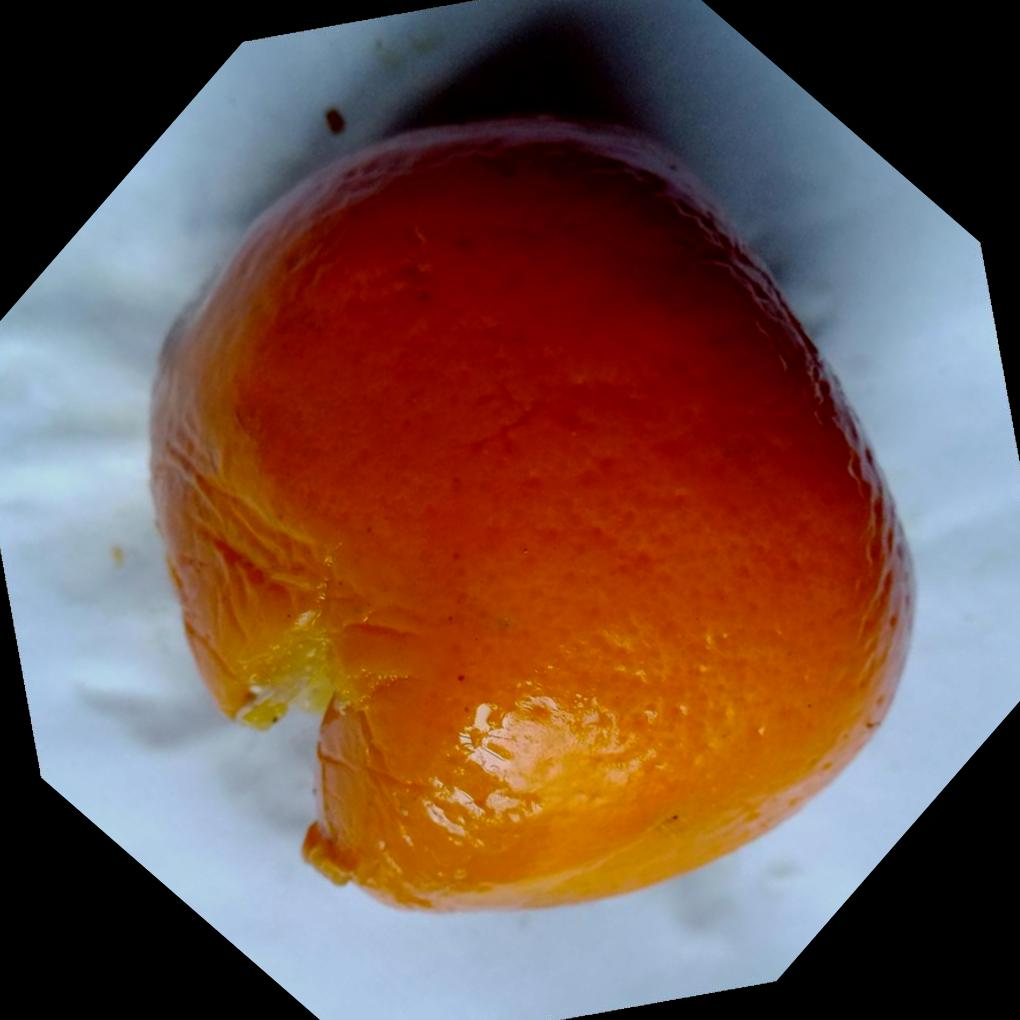FreshOrange: (144, 107, 916, 915)
